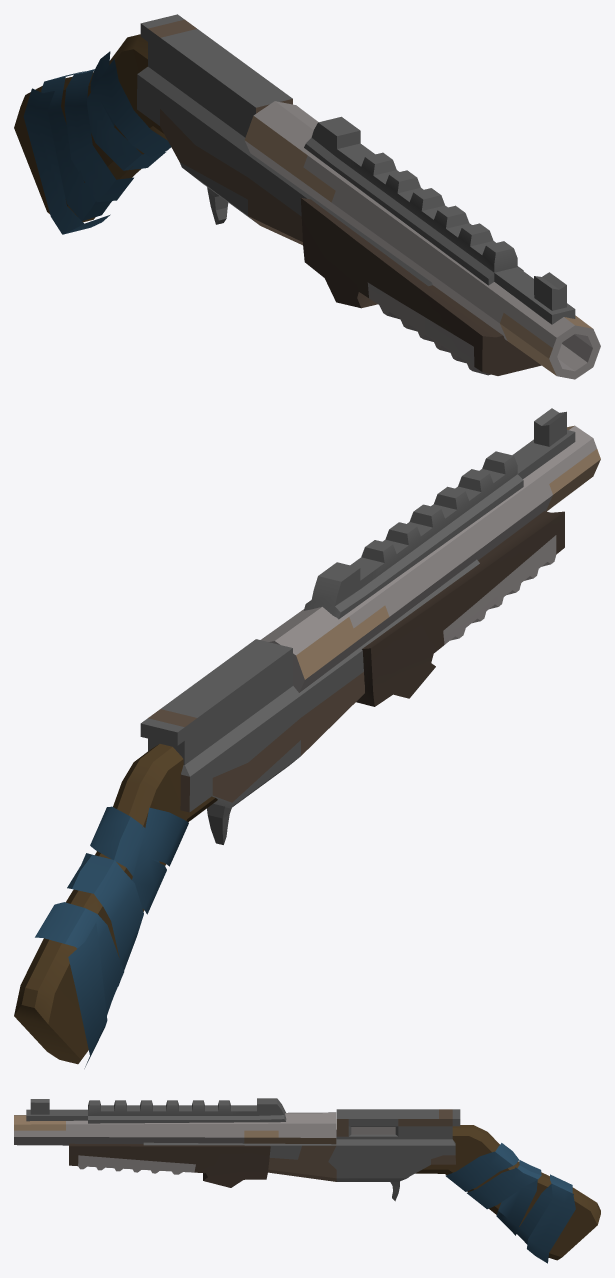
File: gun_shotgun.glb
3 renders of one model, top to bottom at view 1: azimuth 30°, elevation 25°; view 2: azimuth 150°, elevation 25°; view 3: azimuth 270°, elevation 25°, orthographic. The views are drawn at different scales.
Visible parts, largest first — view 1: Shotgun; view 2: Shotgun; view 3: Shotgun.
Part boxes in pixels (bbox=[...]): Shotgun: bbox=[14, 14, 600, 379]; Shotgun: bbox=[14, 408, 600, 1068]; Shotgun: bbox=[14, 1098, 600, 1263].
Bounding box in the file's own units: 0.0951 × 0.3382 × 1.11.
1 material, 1 textured.
